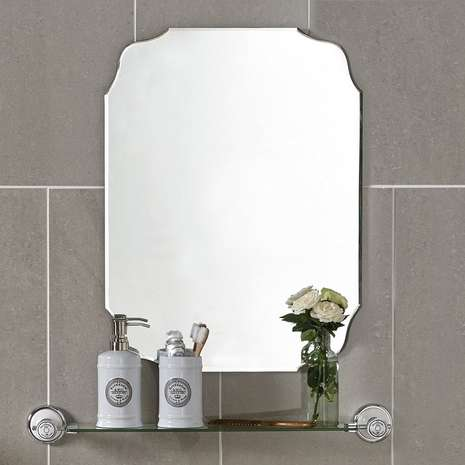Nonrec_Glass: (88, 18, 366, 366)
